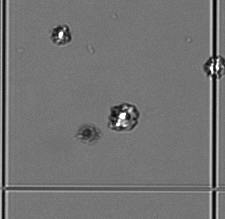Dead Cell: (78, 124, 98, 142)
Living Cell: (112, 104, 137, 131), (51, 24, 72, 44)
